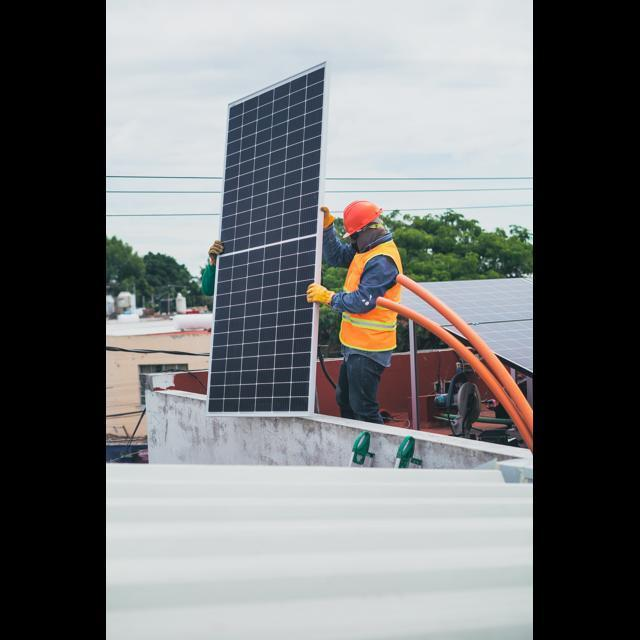helmet: (338, 196, 390, 242)
safety_vest: (342, 248, 406, 352)
